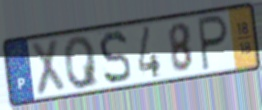4: (137, 24, 163, 80)
8: (166, 21, 195, 75)
P: (196, 13, 230, 74)
Q: (62, 34, 101, 92)
S: (97, 28, 133, 87)
X: (28, 36, 67, 99)
